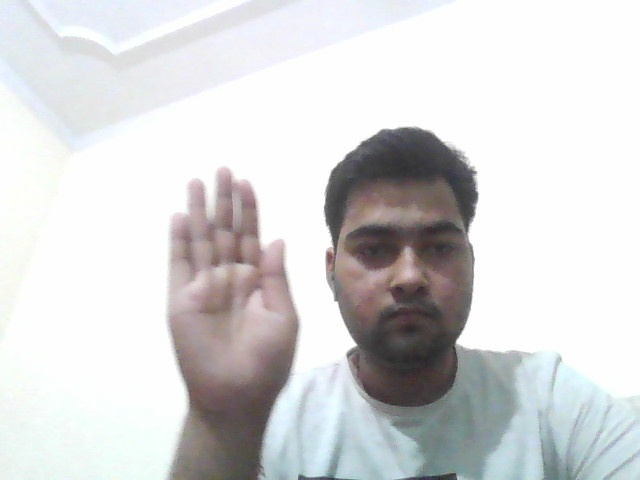Hello: (165, 161, 307, 413)
